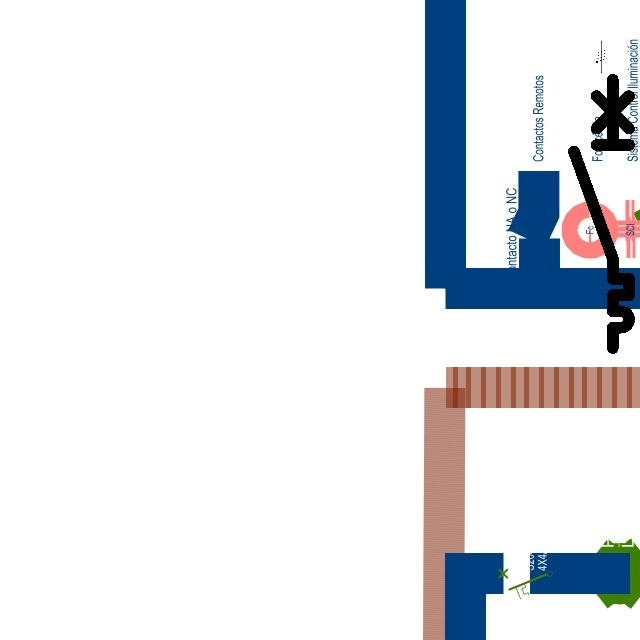interruptor_termomagnetico: (567, 72, 636, 354)
